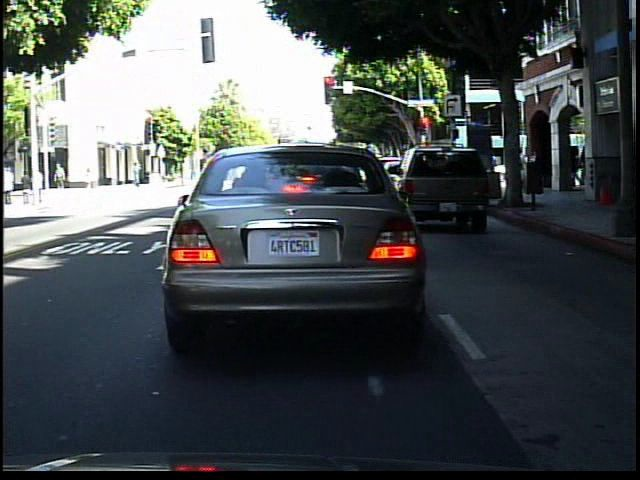person: (615, 141, 639, 223), (592, 140, 615, 218), (82, 157, 101, 196), (21, 168, 36, 206), (37, 165, 50, 208), (130, 159, 146, 191), (54, 161, 69, 194)
